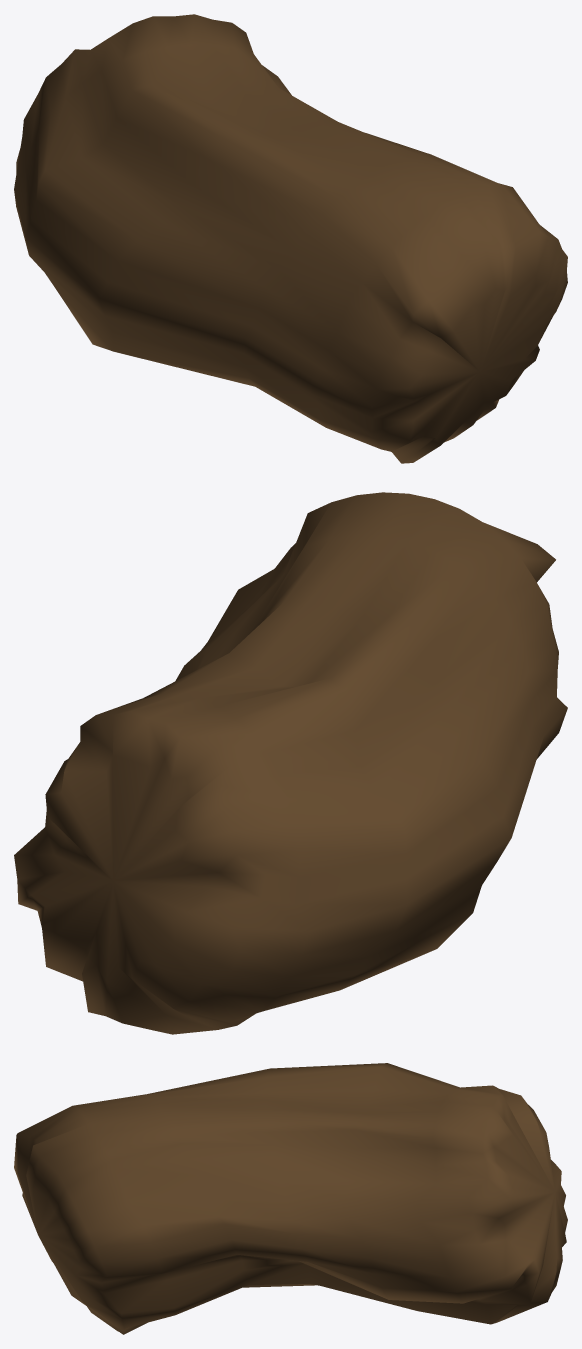
Rendered from poop.fbx.
3 renders of one model, top to bottom at view 1: azimuth 30°, elevation 25°; view 2: azimuth 150°, elevation 25°; view 3: azimuth 270°, elevation 25°, orthographic. The views are drawn at different scales.
Visible parts, largest first — view 1: pCylinder2; view 2: pCylinder2; view 3: pCylinder2.
Part boxes in pixels (x1=…): pCylinder2: x1=14, y1=14, x2=567, y2=463; pCylinder2: x1=14, y1=492, x2=567, y2=1034; pCylinder2: x1=14, y1=1063, x2=567, y2=1334.
Bounding box in the file's own units: 0.8279 × 0.6144 × 1.44.
